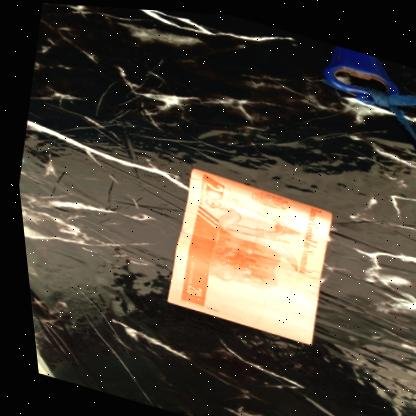twenty-back-vef: (147, 161, 340, 344)
